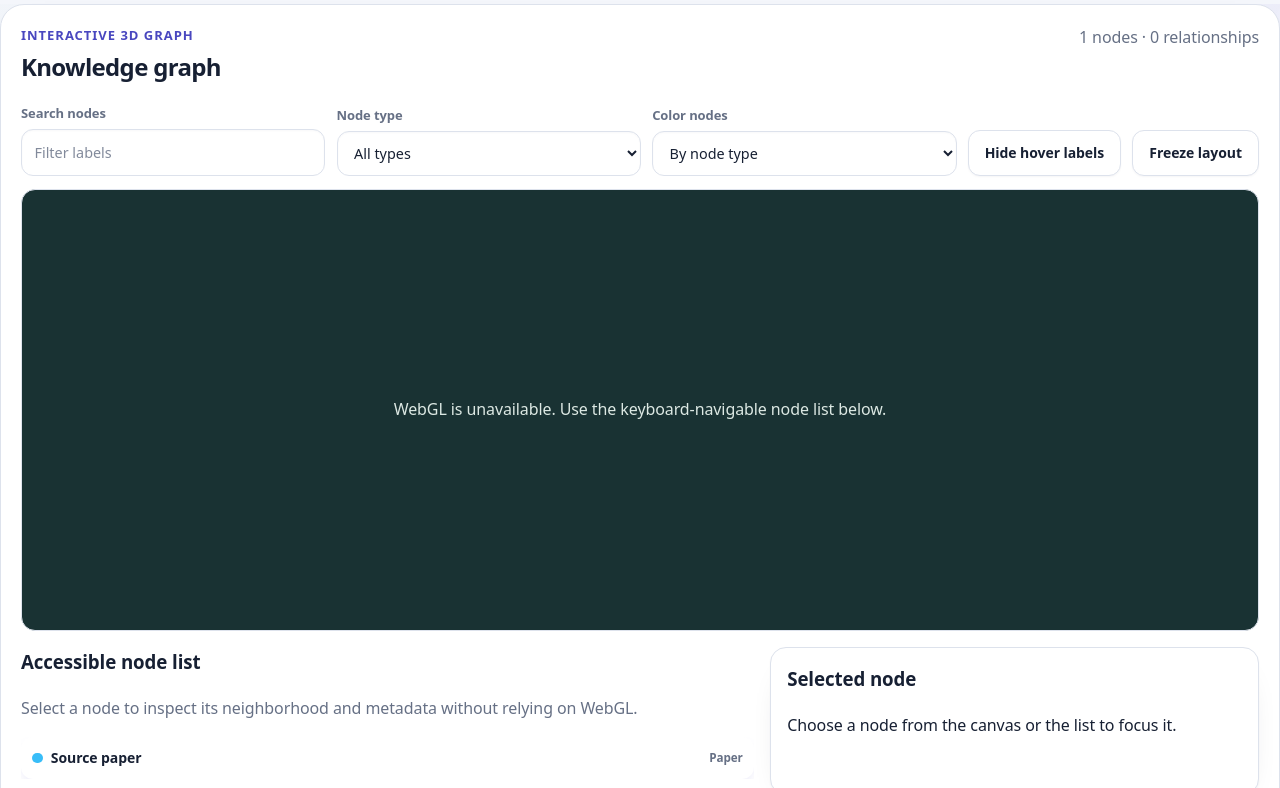
Test case: Graph3D › shows evidence metadata in the deterministic non-WebGL fallback
Expected: the picture "WebGL is unavailable" is shown, [394,398,886,420]
What coordinates should you click on to do the following:
click the button "Source paper Paper"
I would click on:
 (96, 757)
Its box is [21,737,754,779].
(page scrolled)
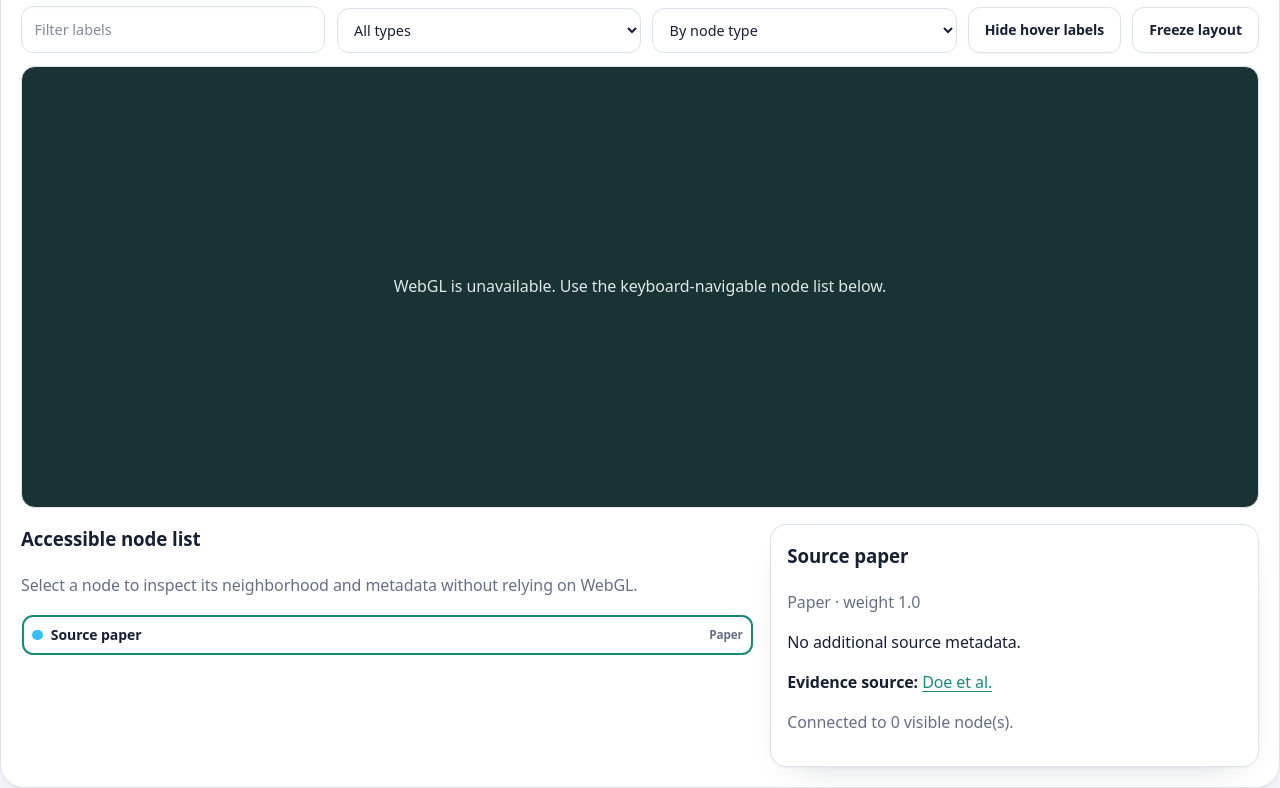
Now the element with test id "graph-evidence-source" shows "Doe et al.", box [922,670,992,692]
